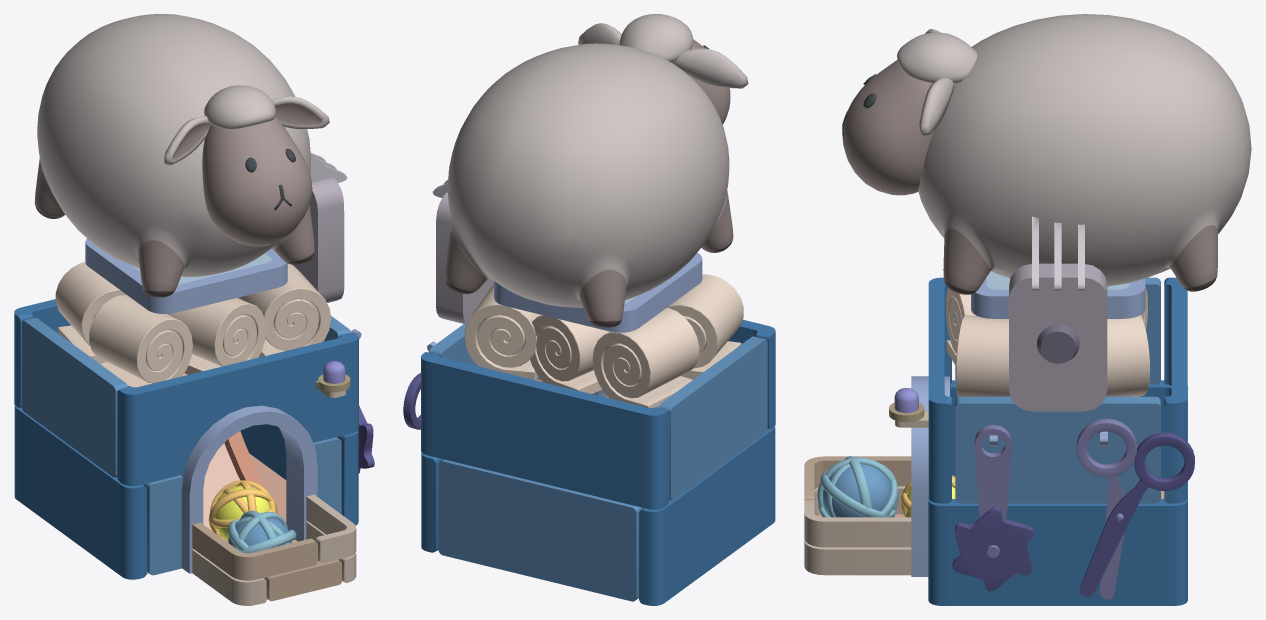
The model's file is Sheep House.fbx.
The picture shows the model from 3 angles, left to right: view 1: azimuth 30°, elevation 25°; view 2: azimuth 150°, elevation 25°; view 3: azimuth 270°, elevation 25°; orthographic projection. The views are drawn at different scales.
Visible parts, largest first — view 1: Sheep House, Sheep House.007, Sheep House.003, Sheep House.004, Sheep House.002, Sheep House.006, Sheep House.005; view 2: Sheep House, Sheep House.007, Sheep House.003, Sheep House.004, Sheep House.001; view 3: Sheep House.007, Sheep House, Sheep House.004, Sheep House.003, Sheep House.001, Sheep House.005, Sheep House.006.
Part boxes in pixels (left/top/right/bottom): Sheep House: left=14, top=299, right=361, bottom=605; Sheep House.007: left=34, top=14, right=329, bottom=297; Sheep House.003: left=55, top=238, right=331, bottom=387; Sheep House.004: left=293, top=153, right=347, bottom=302; Sheep House.002: left=208, top=480, right=277, bottom=542; Sheep House.006: left=228, top=510, right=296, bottom=578; Sheep House.005: left=350, top=330, right=374, bottom=473; Sheep House: left=421, top=319, right=775, bottom=605; Sheep House.007: left=445, top=14, right=748, bottom=327; Sheep House.003: left=464, top=252, right=743, bottom=408; Sheep House.004: left=432, top=179, right=493, bottom=324; Sheep House.001: left=403, top=373, right=420, bottom=429; Sheep House.007: left=842, top=14, right=1251, bottom=294; Sheep House: left=804, top=277, right=1187, bottom=605; Sheep House.004: left=1009, top=216, right=1107, bottom=411; Sheep House.003: left=946, top=271, right=1150, bottom=397; Sheep House.001: left=1076, top=418, right=1194, bottom=599; Sheep House.005: left=952, top=425, right=1034, bottom=591; Sheep House.006: left=817, top=456, right=898, bottom=517.
Bounding box in the file's own units: 7.01 × 11.79 × 9.29.
